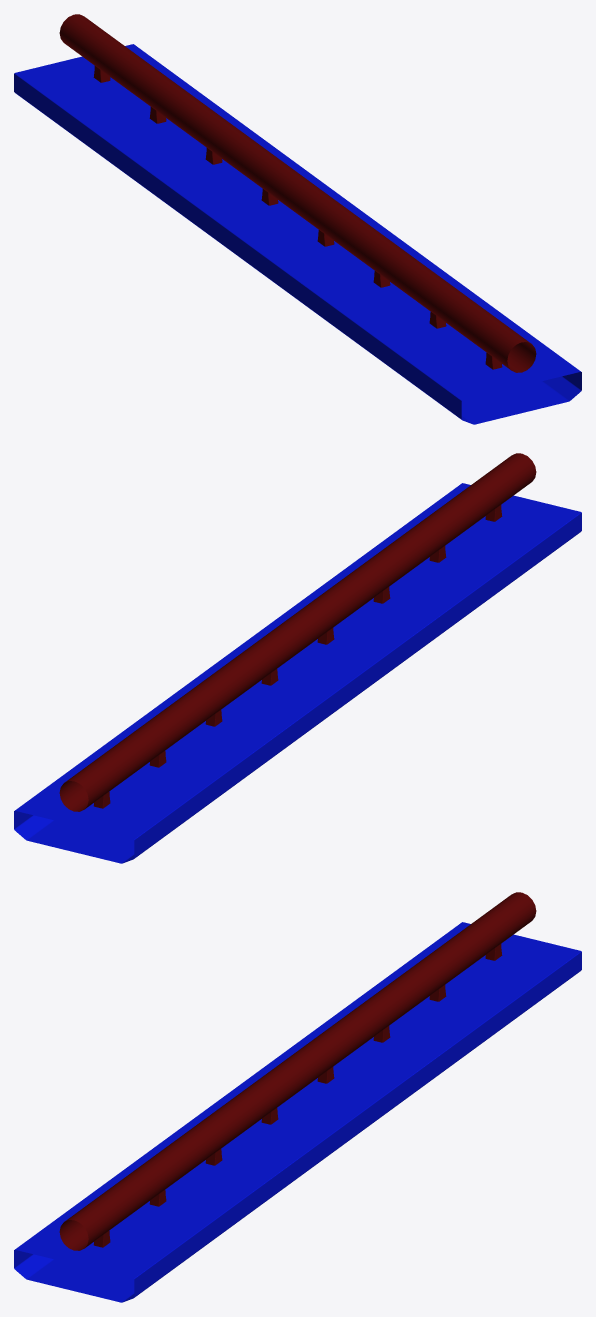
The model's file is TramBridge_Concrete_06.FBX.
The picture shows the model from 3 angles, top to bottom: view 1: azimuth 30°, elevation 25°; view 2: azimuth 150°, elevation 25°; view 3: azimuth 330°, elevation 25°; orthographic projection.
Visible parts, largest first — view 1: TramBridge_Concrete_06_LOD0; view 2: TramBridge_Concrete_06_LOD0; view 3: TramBridge_Concrete_06_LOD0.
Part boxes in pixels (left/top/right/bottom): TramBridge_Concrete_06_LOD0: left=14, top=14, right=581, bottom=424; TramBridge_Concrete_06_LOD0: left=14, top=453, right=581, bottom=863; TramBridge_Concrete_06_LOD0: left=14, top=892, right=581, bottom=1302.
Bounding box in the file's own units: 248 × 140 × 1600.
